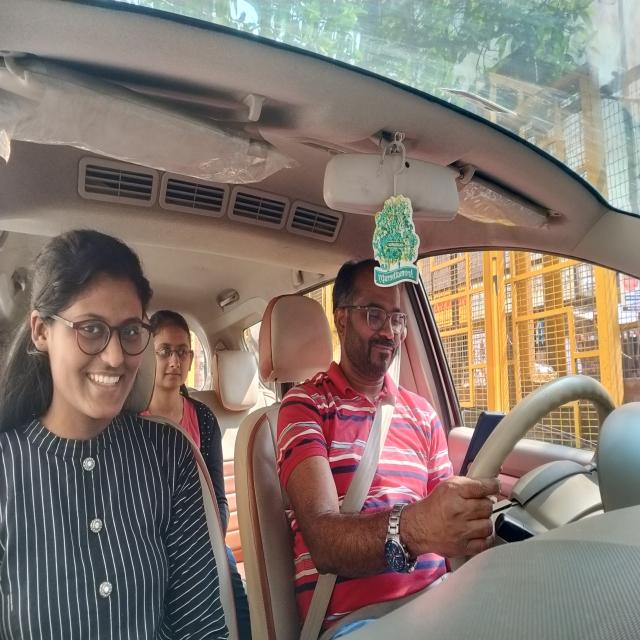mobile: (468, 401, 506, 478)
person: (37, 260, 156, 424), (335, 262, 414, 372), (162, 312, 197, 395)
